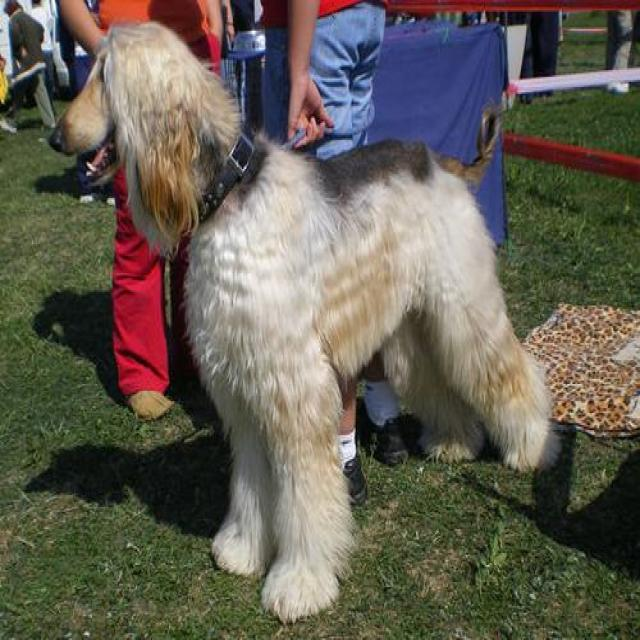afghan_hound: (49, 22, 556, 625)
